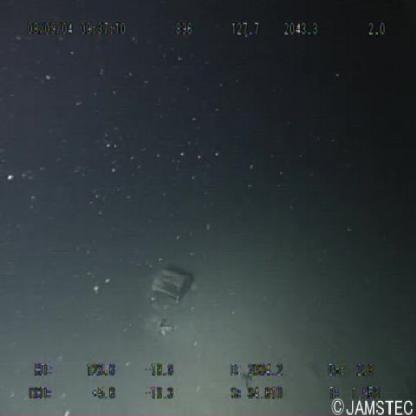Rác: (151, 269, 195, 309)
